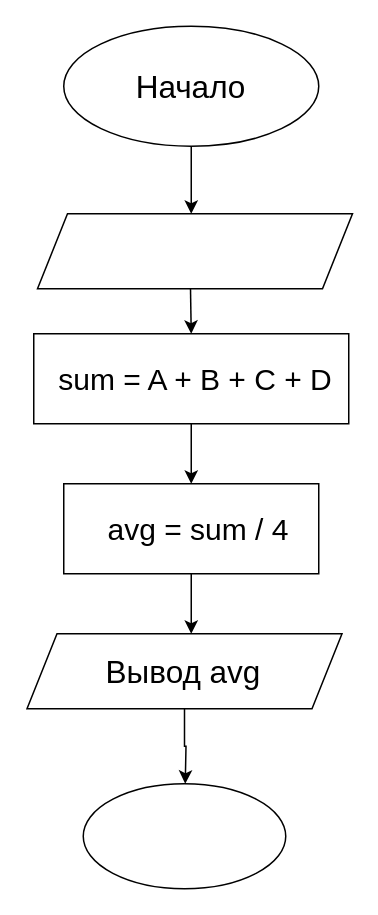
The diagram is 378 pixels wide and 915 high, and some of its shapes have lost their labels. The shapes that lost their labels are listed below. From the top down, each one's box as (x1, y1, x2, y2) in pixels, then its label:
(36, 212, 352, 289): Ввод A, B, C, D
(82, 782, 286, 889): Конец
